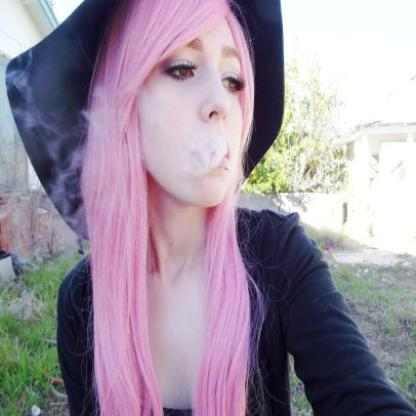person: (44, 0, 344, 415)
smoke: (192, 133, 227, 176)
